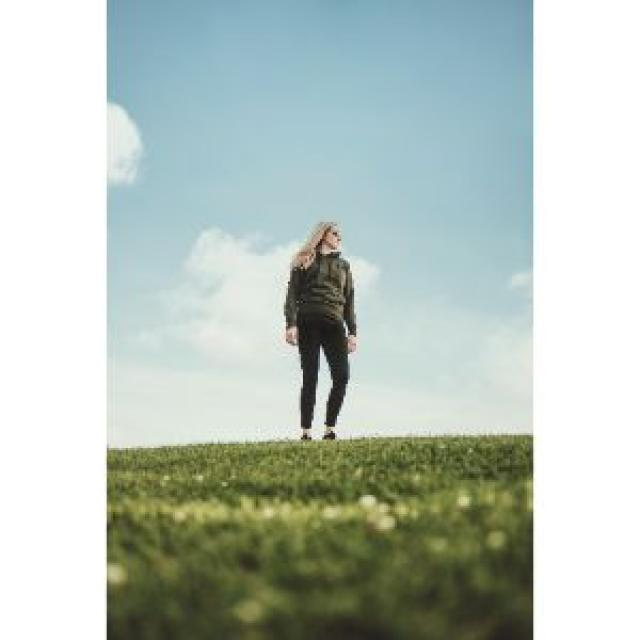nonfall: (272, 199, 378, 446)
